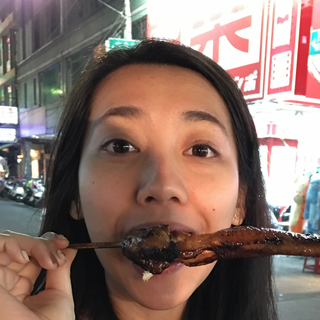eye: (177, 136, 222, 166), (94, 136, 143, 160)
